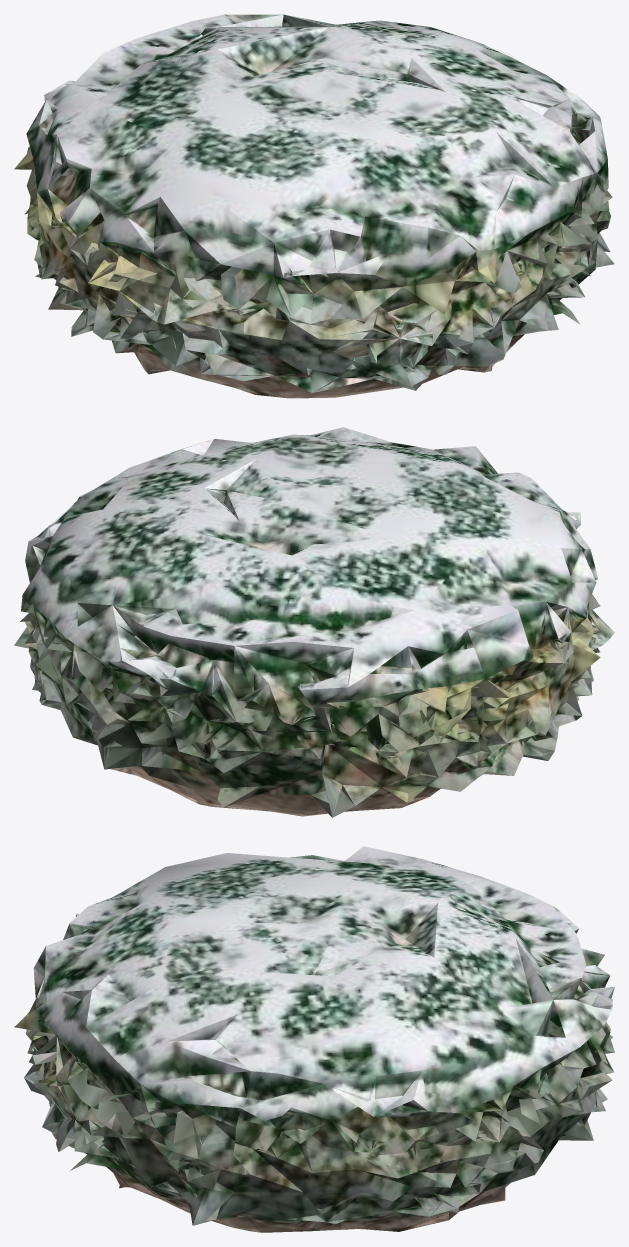
The model's file is snowbush.glb.
The picture shows the model from 3 angles, top to bottom: view 1: azimuth 30°, elevation 25°; view 2: azimuth 150°, elevation 25°; view 3: azimuth 270°, elevation 25°; orthographic projection.
Parts seen in each view (by area): view 1: snowbush; view 2: snowbush; view 3: snowbush.
Part boxes in pixels (bbox=[...]): snowbush: bbox=[14, 14, 614, 398]; snowbush: bbox=[14, 427, 614, 817]; snowbush: bbox=[14, 846, 614, 1232].
Size of the model in its own units: 1.83 by 0.8 by 1.86.
Materials: 1 (1 with a texture image).
